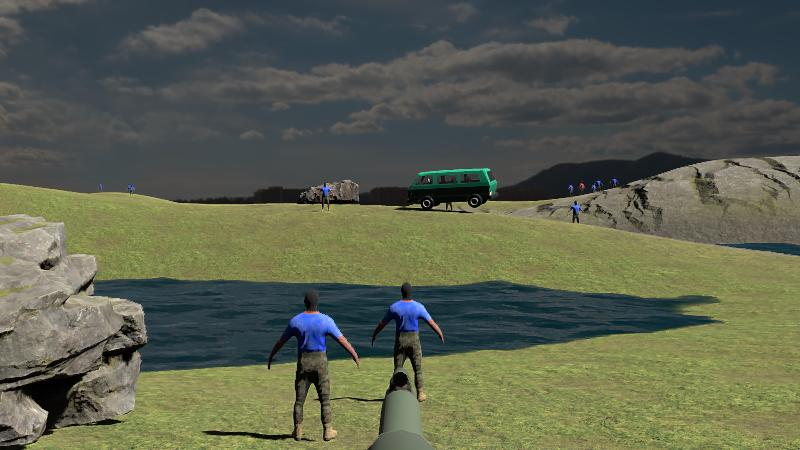Human: (268, 288, 359, 442), (371, 280, 443, 404)
car: (407, 168, 498, 210)
